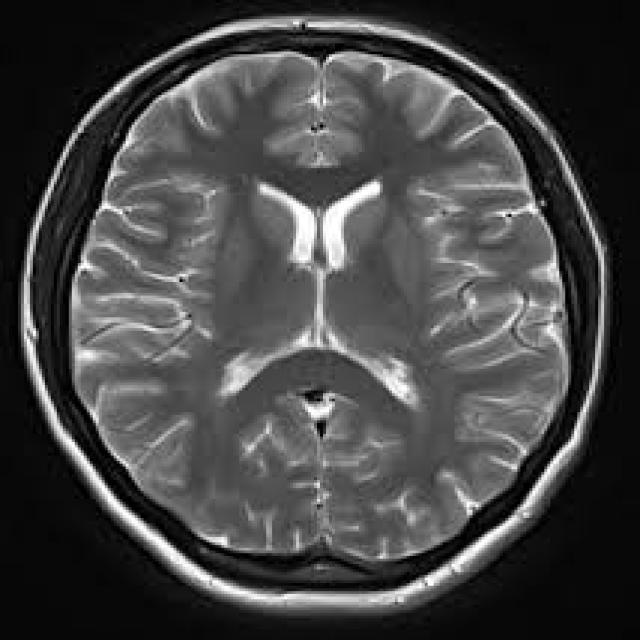notumor: (18, 16, 619, 621)
